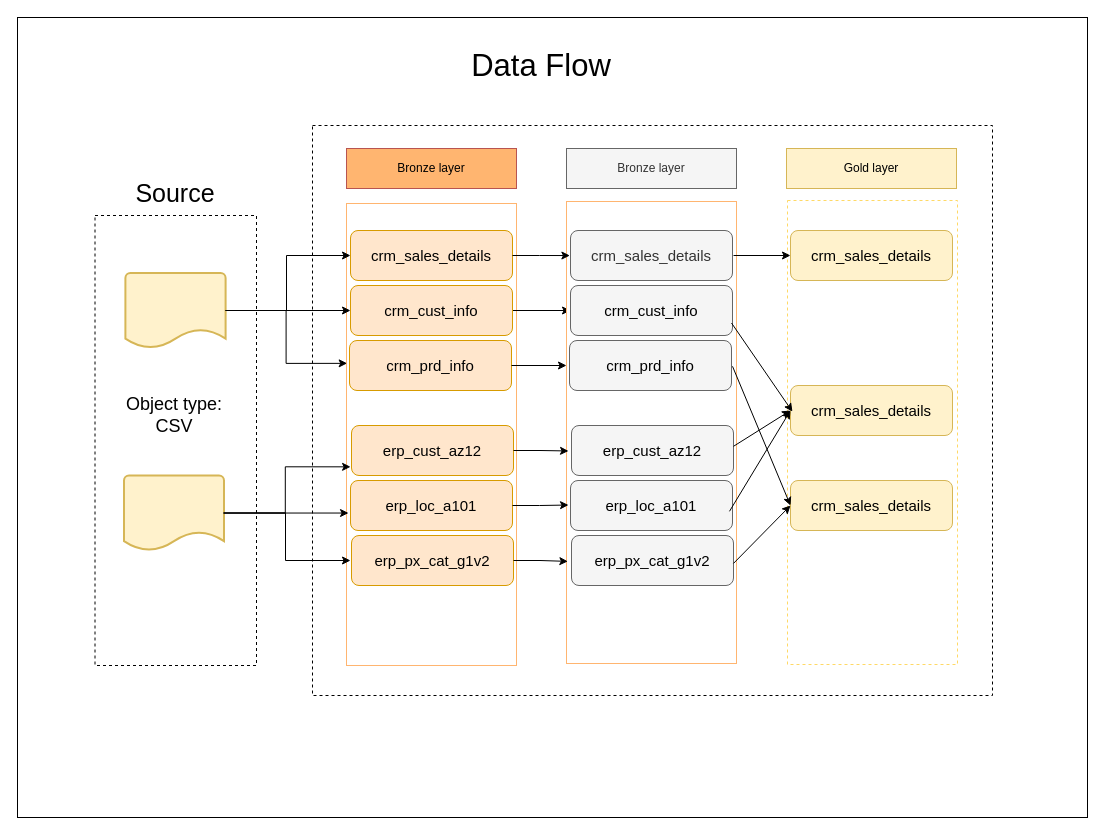
This 1105x835 diagram has some shape labels left out. Here are the shapes that lost their labels. From the top down, the centre of each, then its label:
At (175,310): "CRM".
At (173,512): "ERP".
